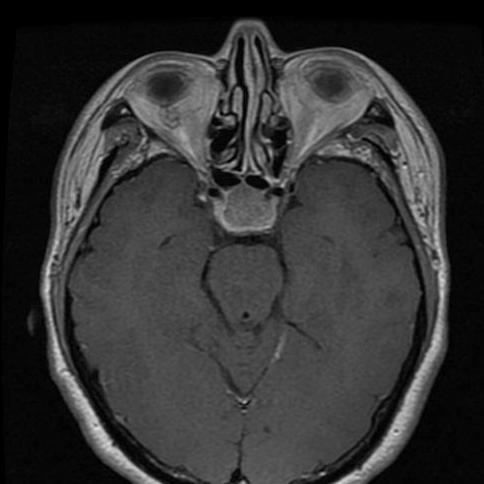Tumour-Pituitary: (192, 183, 299, 237)
